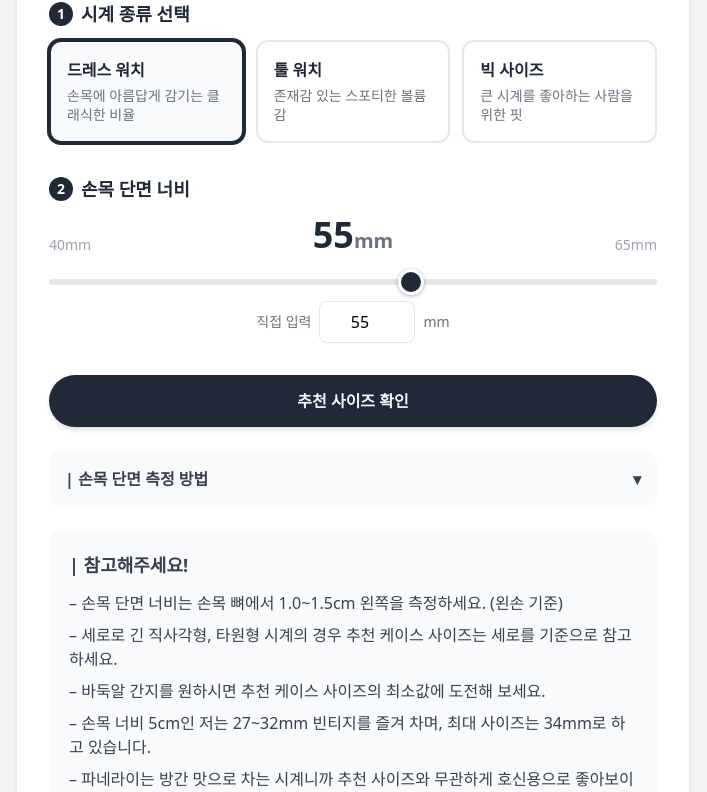
FitFinder — 손목 너비 입력 › 두 자리를 다 치면 결과도 그 값으로 갱신된다
(page scrolled)
Click the button "추천 사이즈 확인" at (353, 400), box [49,374,657,426]
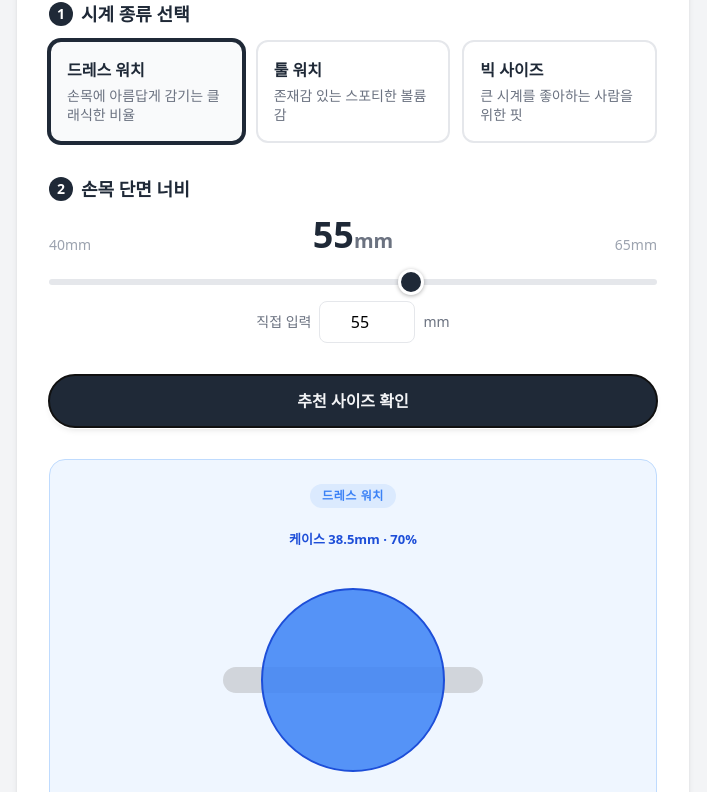
Replace the text in the number field with "50" at (368, 322), box [320,300,416,342]
(page scrolled)
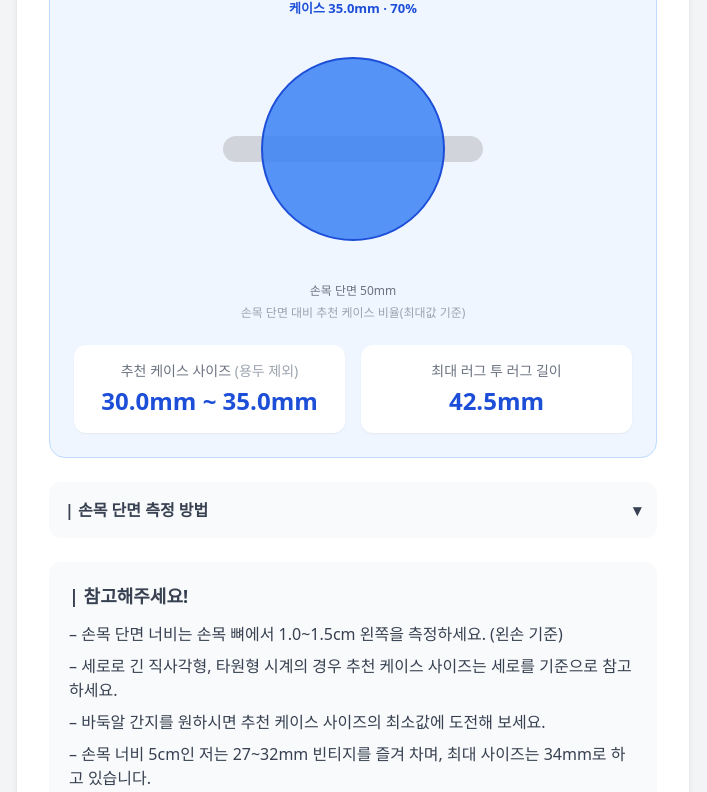
Result: the text "30.0mm ~ 35.0mm" is shown at [90,384,329,416]
